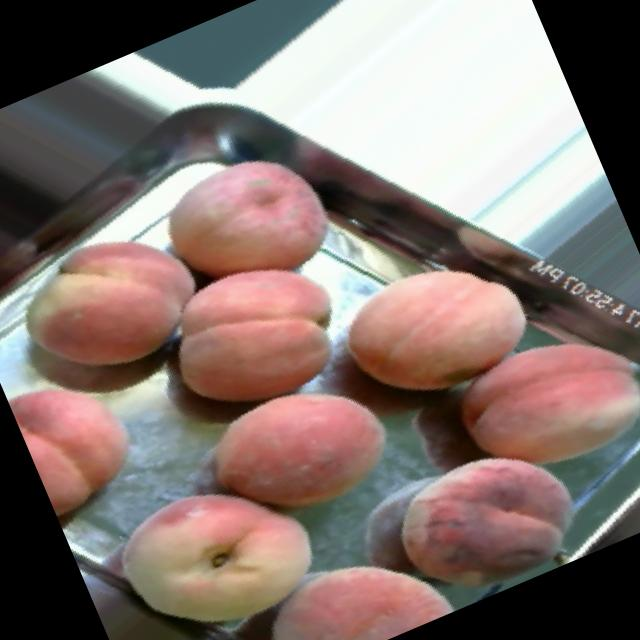Fruit: (109, 97, 370, 342), (73, 427, 360, 640), (350, 399, 610, 628), (304, 206, 561, 428), (0, 188, 235, 427), (174, 356, 421, 568), (128, 225, 368, 436), (421, 293, 640, 521), (222, 495, 478, 640), (0, 339, 167, 537)
